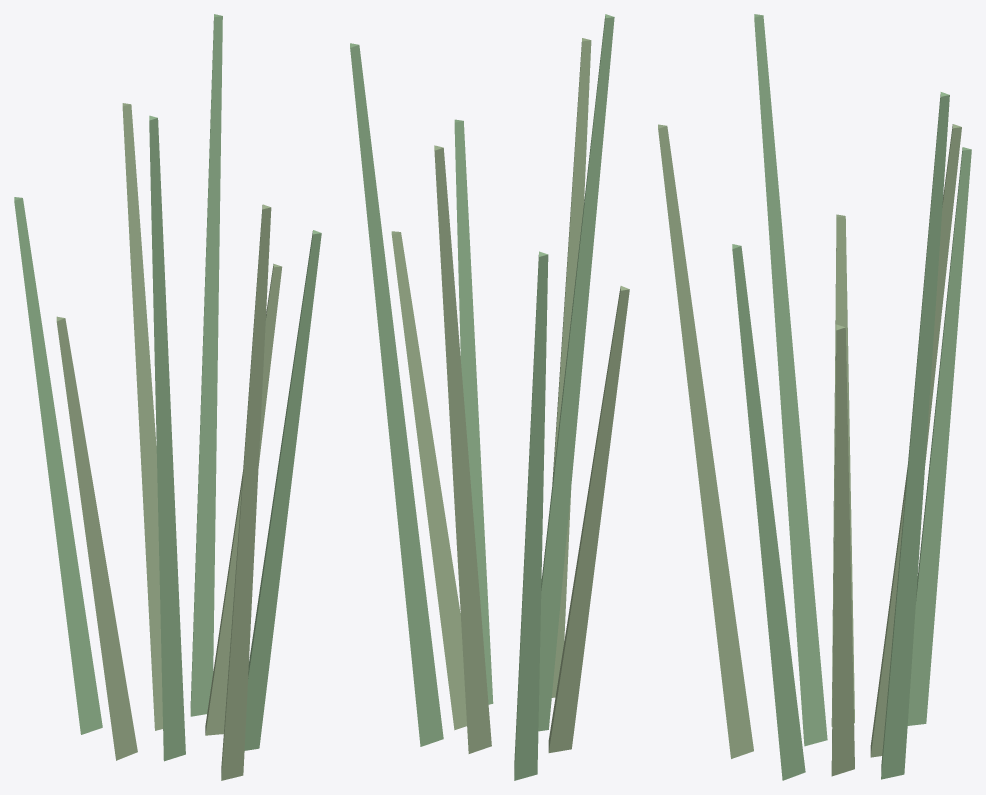
File: reed_v15.glb
The picture shows the model from 3 angles, left to right: view 1: azimuth 30°, elevation 25°; view 2: azimuth 150°, elevation 25°; view 3: azimuth 270°, elevation 25°; orthographic projection. The views are drawn at different scales.
Parts seen in each view (by area): view 1: lod0; view 2: lod0; view 3: lod0.
Boxes of the visible parts, bbox=[...] form: lod0: bbox=[14, 14, 321, 780]; lod0: bbox=[350, 14, 629, 780]; lod0: bbox=[658, 14, 971, 780].
Size of what is drawn, in the model's own units: 0.3537 by 1 by 0.4046.
